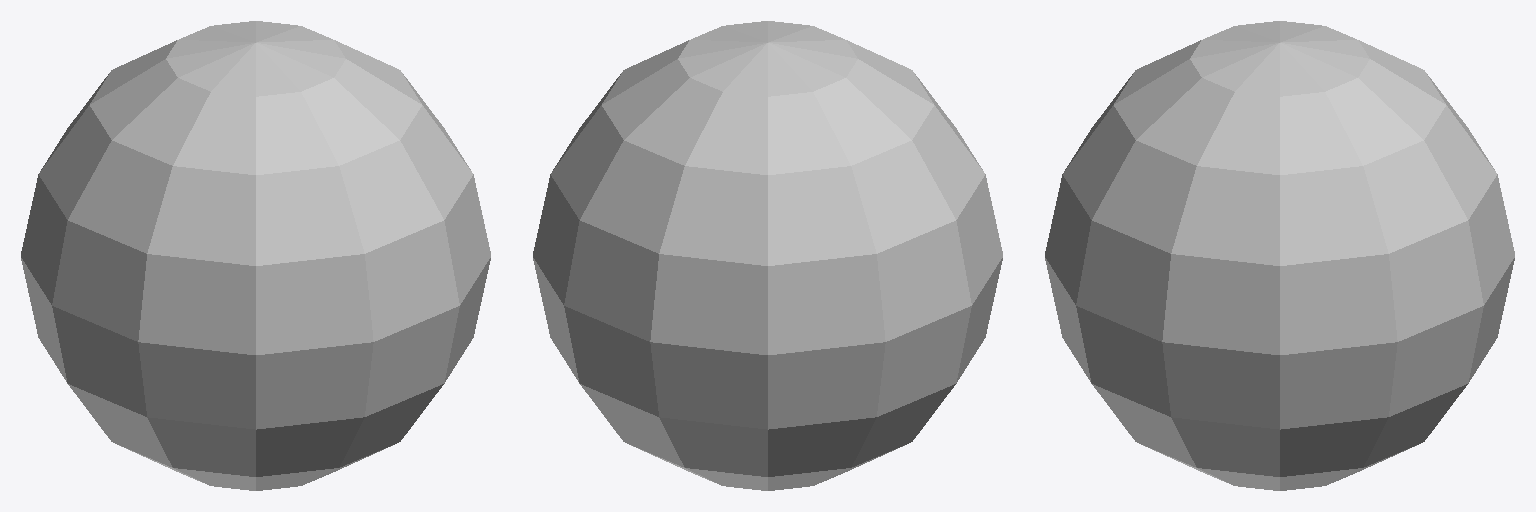
File: workerBody02.obj
3 views of the same model, side by side, from view 1: azimuth 30°, elevation 25°; view 2: azimuth 150°, elevation 25°; view 3: azimuth 270°, elevation 25° (orthographic).
Parts seen in each view (by area): view 1: mesh01; view 2: mesh01; view 3: mesh01.
Part boxes in pixels (bbox=[...]): mesh01: bbox=[21, 21, 490, 490]; mesh01: bbox=[533, 21, 1002, 490]; mesh01: bbox=[1045, 21, 1514, 490].
Size of the model in its own units: 0.9 by 0.9 by 0.9.